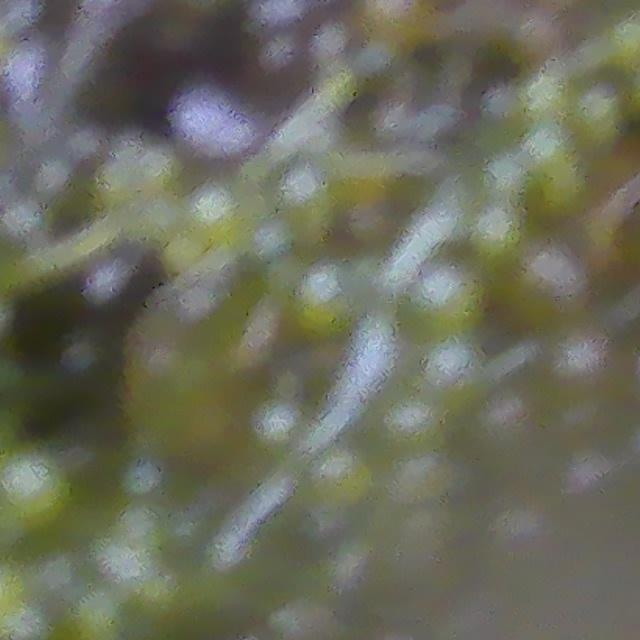SeaGrape: (1, 453, 73, 527)
